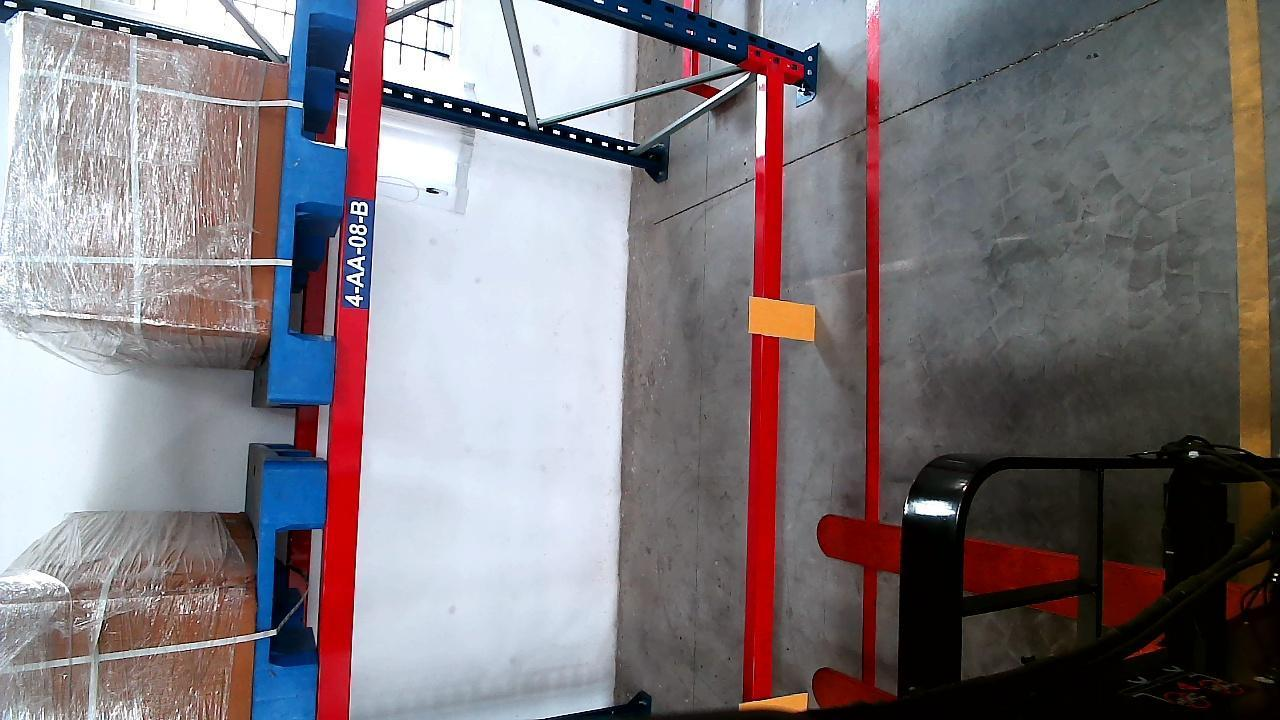h_rack: (749, 71, 789, 698)
orange_strip: (751, 296, 817, 340)
red_line: (860, 4, 885, 509)
small_pallet: (265, 0, 352, 402), (256, 460, 324, 720)
yellow_line: (1227, 0, 1274, 461)
